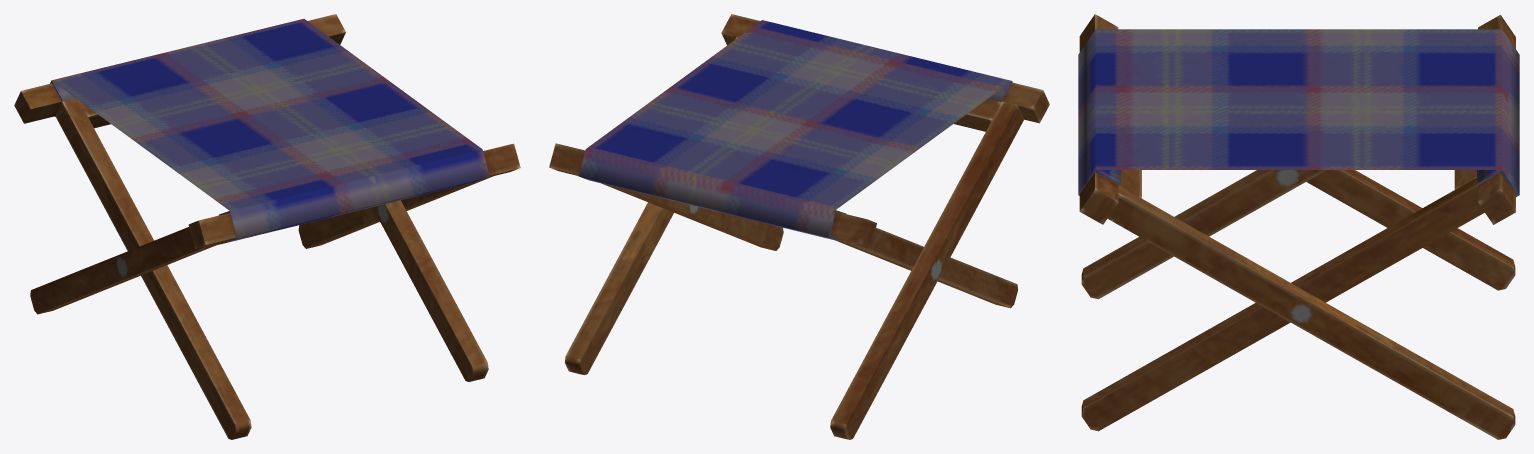
The model's file is pi_chair01_dlc1_03_02.gltf.
The picture shows the model from 3 angles, left to right: view 1: azimuth 30°, elevation 25°; view 2: azimuth 150°, elevation 25°; view 3: azimuth 270°, elevation 25°; orthographic projection. The views are drawn at different scales.
Visible parts, largest first — view 1: pi_chair01_dlc1_03_02_mesh_shape:pi_chair01_dlc1_07_main; view 2: pi_chair01_dlc1_03_02_mesh_shape:pi_chair01_dlc1_07_main; view 3: pi_chair01_dlc1_03_02_mesh_shape:pi_chair01_dlc1_07_main.
Boxes of the visible parts, x1=… form: pi_chair01_dlc1_03_02_mesh_shape:pi_chair01_dlc1_07_main: x1=14, y1=14, x2=520, y2=439; pi_chair01_dlc1_03_02_mesh_shape:pi_chair01_dlc1_07_main: x1=549, y1=14, x2=1049, y2=439; pi_chair01_dlc1_03_02_mesh_shape:pi_chair01_dlc1_07_main: x1=1078, y1=14, x2=1519, y2=439.
Size of what is drawn, in the model's own units: 0.4989 by 0.3463 by 0.53.
1 material, 1 textured.
